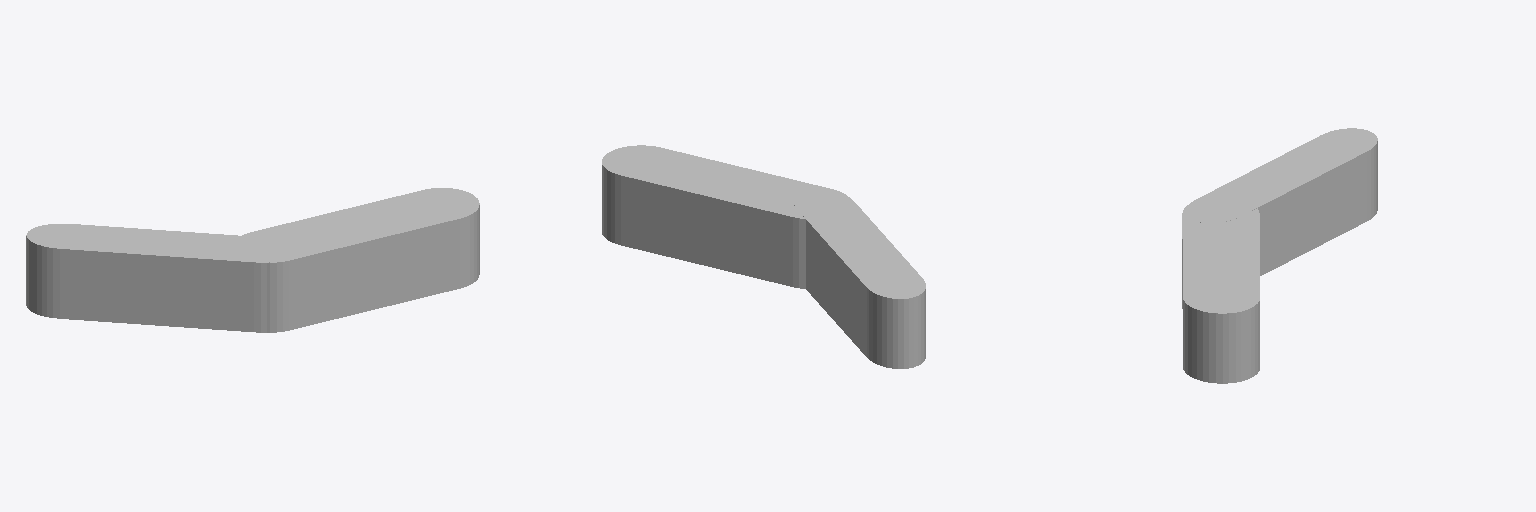
The model's file is barra_lateral.obj.
3 views of the same model, side by side, from view 1: azimuth 30°, elevation 25°; view 2: azimuth 150°, elevation 25°; view 3: azimuth 270°, elevation 25° (orthographic).
Visible parts, largest first — view 1: Cubo_Cubo.002; view 2: Cubo_Cubo.002; view 3: Cubo_Cubo.002.
Part boxes in pixels (x1,y1,x2,y2): Cubo_Cubo.002: (26,188,479,332); Cubo_Cubo.002: (602,145,925,368); Cubo_Cubo.002: (1182,128,1377,383).
Bounding box in the file's own units: 11.35 × 2 × 5.06.